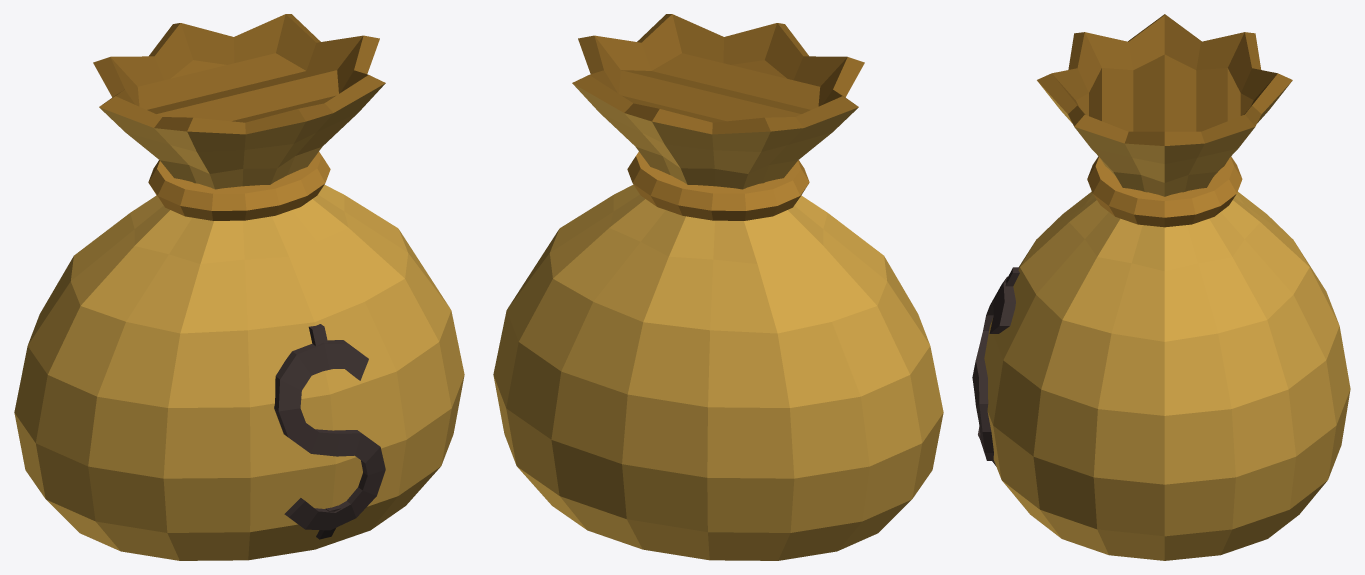
File: money_bag.glb
3 renders of one model, left to right at view 1: azimuth 30°, elevation 25°; view 2: azimuth 150°, elevation 25°; view 3: azimuth 270°, elevation 25°, orthographic. The views are drawn at different scales.
Parts seen in each view (by area): view 1: money_bag; view 2: money_bag; view 3: money_bag.
Part boxes in pixels (x1,y1,x2,y2): money_bag: [14, 14, 464, 560]; money_bag: [493, 14, 943, 560]; money_bag: [972, 14, 1350, 560].
Size of the model in its own units: 2.04 by 2.13 by 1.7.
